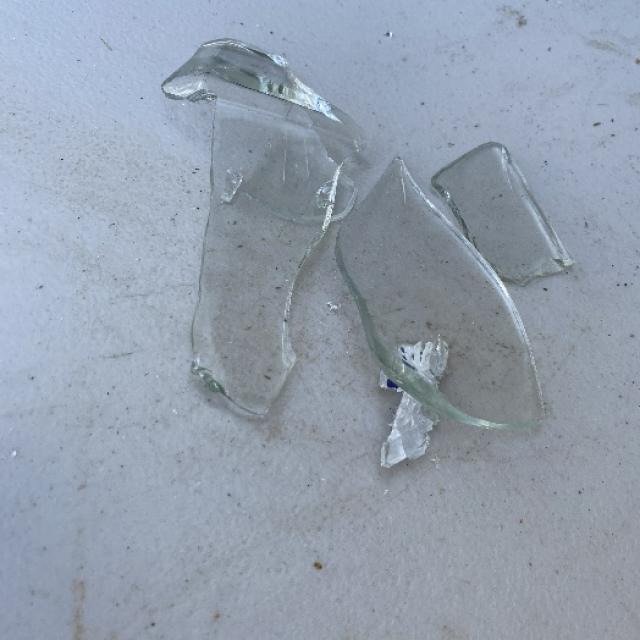kaca: (160, 28, 571, 440), (192, 177, 330, 417), (188, 55, 329, 191), (359, 379, 450, 470), (293, 163, 353, 287), (167, 86, 231, 198)
